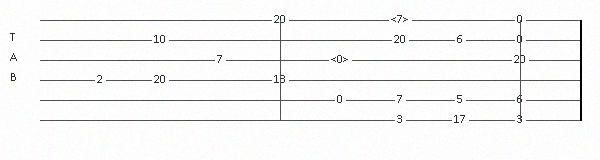0: (337, 94, 347, 106), (517, 34, 527, 46), (517, 14, 527, 26)
10: (154, 34, 170, 46)
17: (454, 114, 470, 126)
18: (274, 74, 290, 86)
2: (97, 74, 107, 86)
20: (154, 74, 170, 86), (274, 14, 290, 26), (394, 34, 410, 46), (514, 54, 530, 66)
3: (397, 114, 407, 126), (517, 114, 527, 126)
5: (457, 94, 467, 106)
6: (457, 34, 467, 46), (517, 94, 527, 106)
7: (217, 54, 227, 66), (397, 94, 407, 106)
harmonic: (331, 54, 353, 66), (391, 14, 413, 26)
